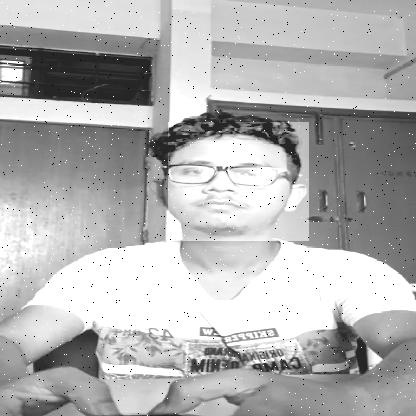Normal: (168, 122, 309, 241)
